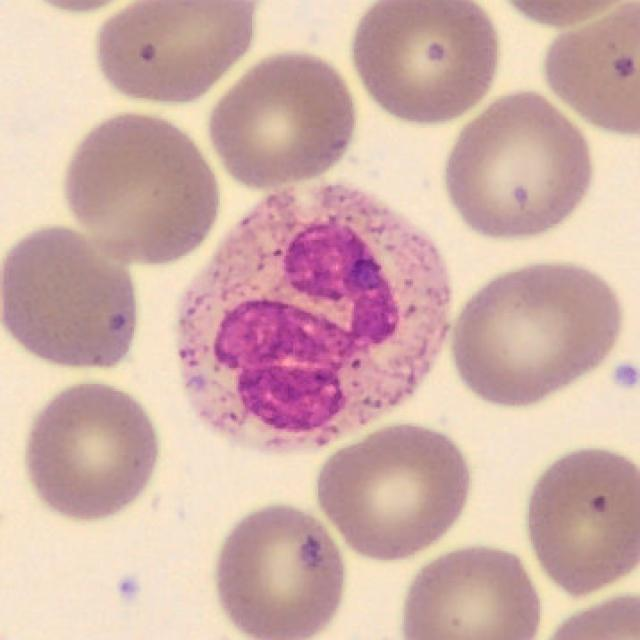Neutrofilo segmentado: (175, 180, 452, 457)
